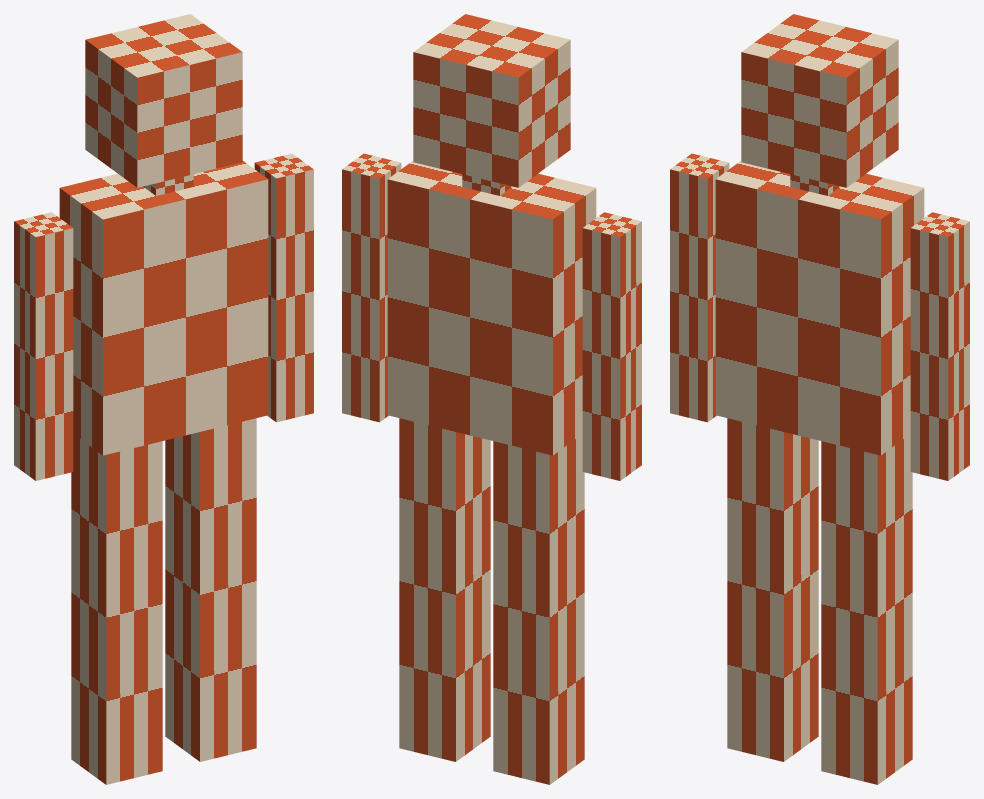
The model's file is person-meshopt.glb.
3 views of the same model, side by side, from view 1: azimuth 30°, elevation 25°; view 2: azimuth 150°, elevation 25°; view 3: azimuth 330°, elevation 25° (orthographic).
Parts seen in each view (by area): view 1: person; view 2: person; view 3: person.
Part boxes in pixels (left/top/right/bottom): person: left=14, top=14, right=313, bottom=784; person: left=342, top=14, right=641, bottom=784; person: left=670, top=14, right=969, bottom=784.
Bounding box in the file's own units: 0.7399 × 1.8 × 0.2399.
Materials: 1 (1 with a texture image).
